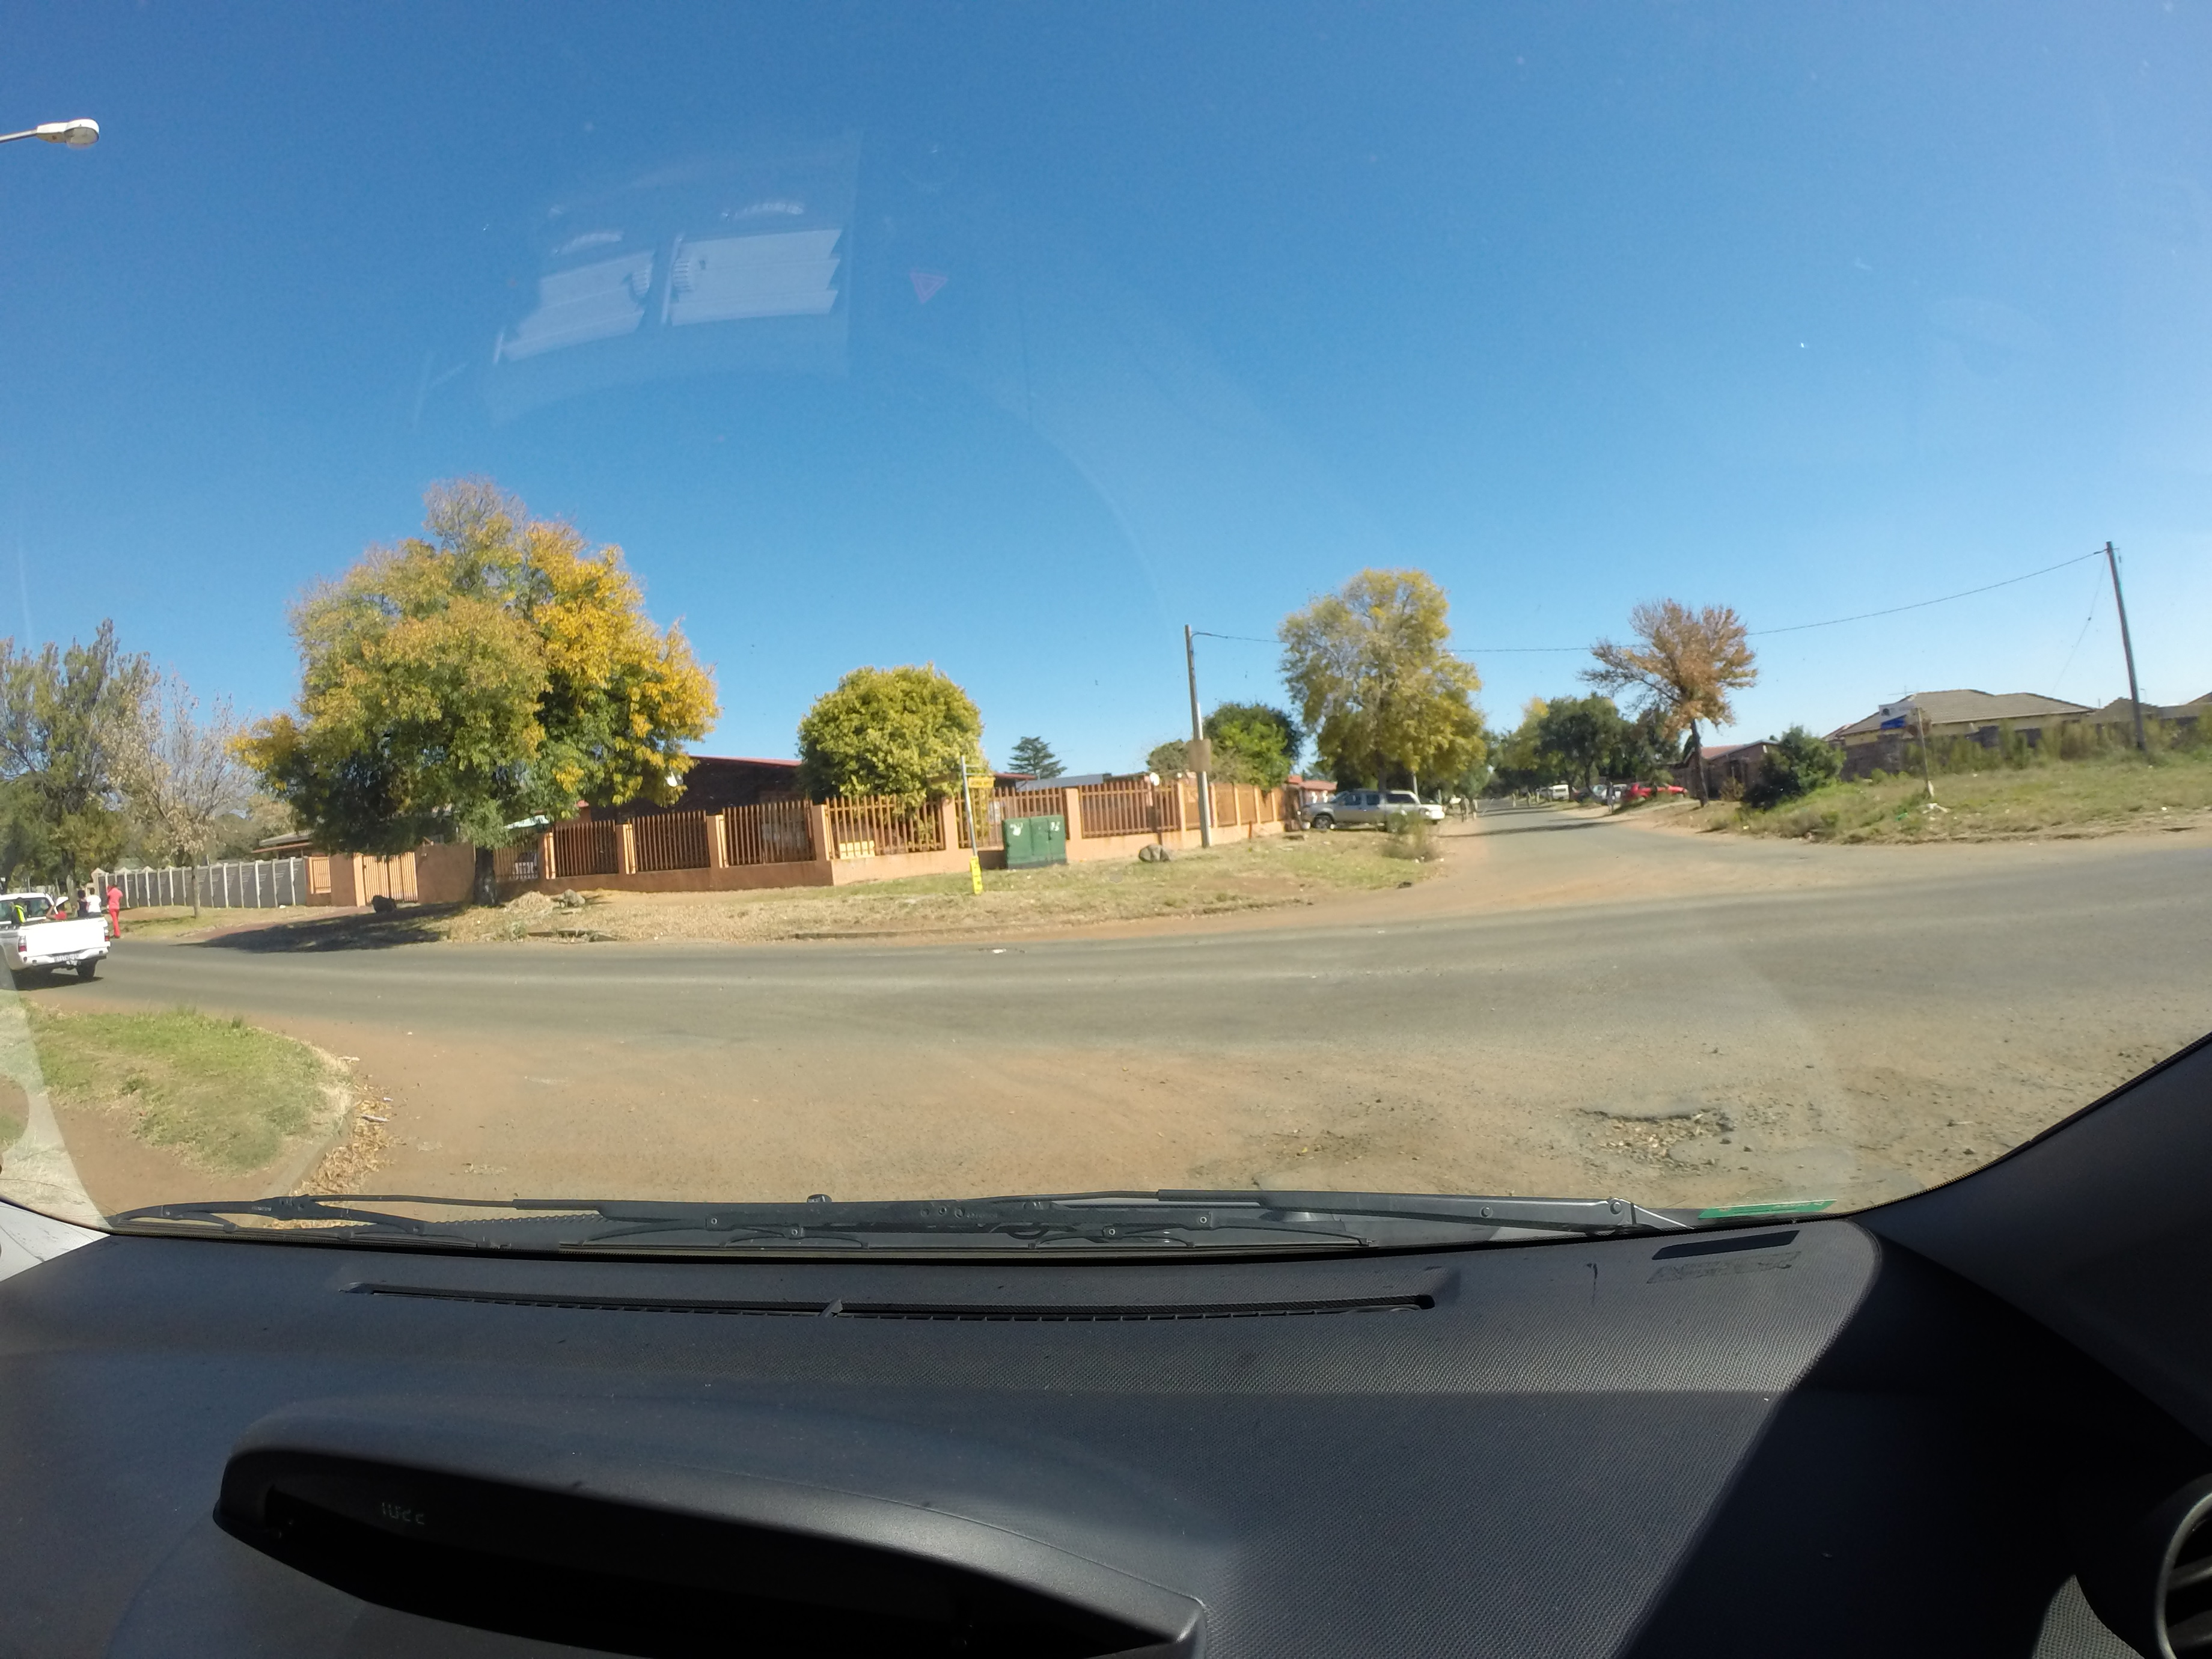pothole: (1500, 1023, 1799, 1192)
